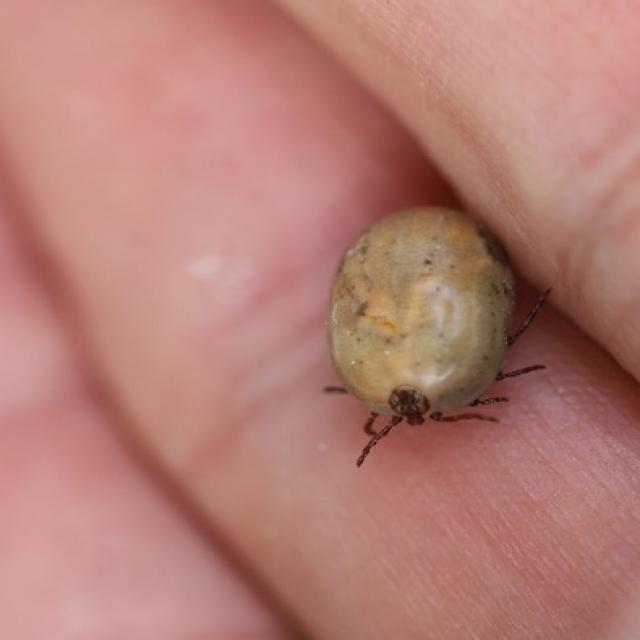Dermacentor Reticulatus-F-Fed: (322, 204, 553, 467)
